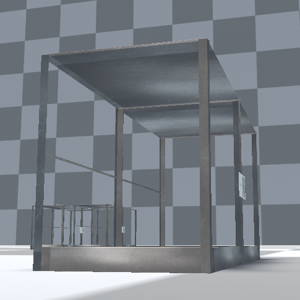Rack: (30, 36, 263, 273)
